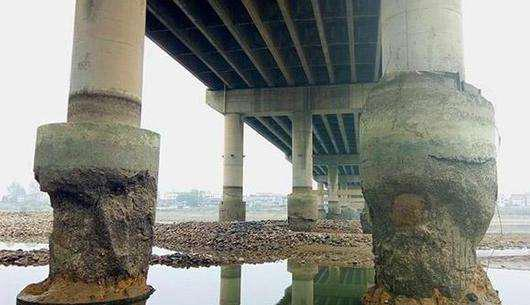Corrosion: (18, 273, 155, 305), (358, 284, 501, 305), (390, 192, 427, 231)
Spalling: (358, 155, 501, 305), (18, 167, 156, 305)
